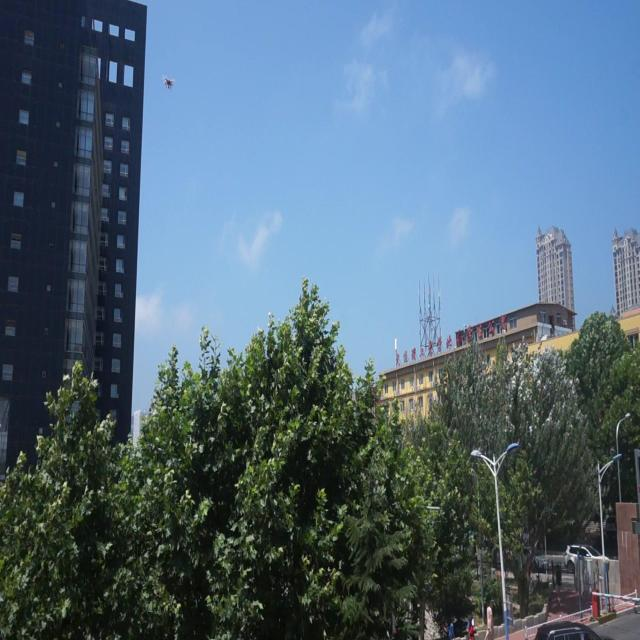drone: (163, 72, 177, 95)
